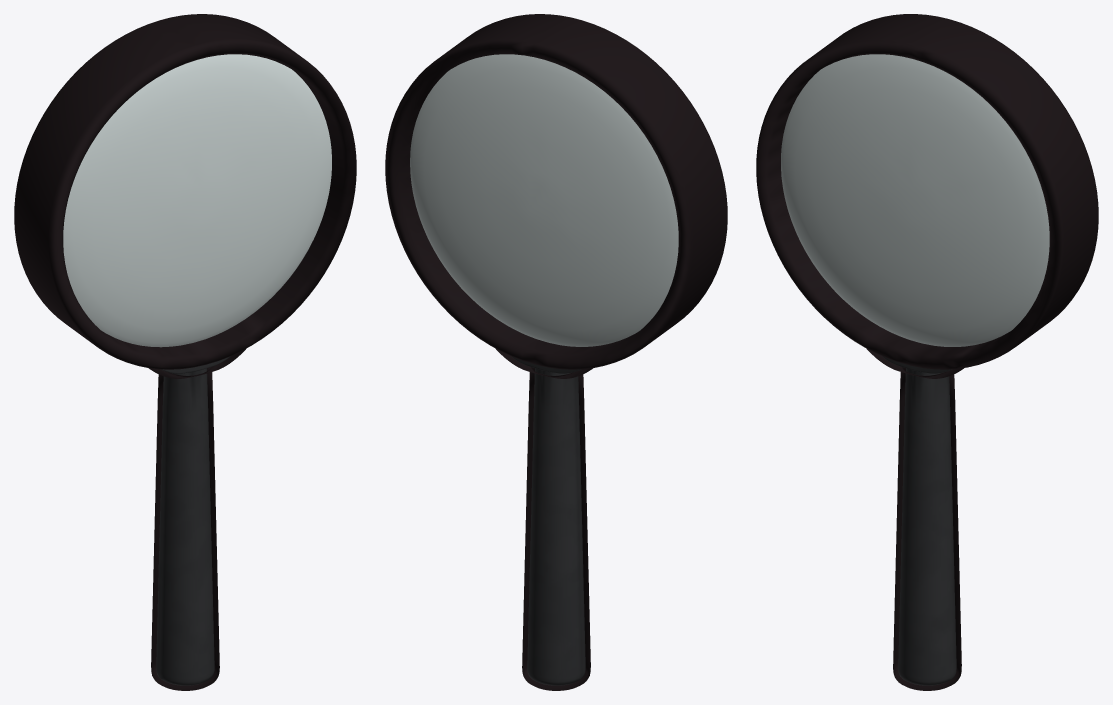
File: SM_Int_Magnifier.fbx
3 views of the same model, side by side, from view 1: azimuth 30°, elevation 25°; view 2: azimuth 150°, elevation 25°; view 3: azimuth 330°, elevation 25° (orthographic).
Parts seen in each view (by area): view 1: SM_Int_Magnifier; view 2: SM_Int_Magnifier; view 3: SM_Int_Magnifier.
Boxes of the visible parts, x1=… form: SM_Int_Magnifier: x1=14, y1=14, x2=356, y2=690; SM_Int_Magnifier: x1=385, y1=14, x2=727, y2=690; SM_Int_Magnifier: x1=756, y1=14, x2=1098, y2=690.
Size of the model in its own units: 0.1361 by 0.2756 by 0.0305.
